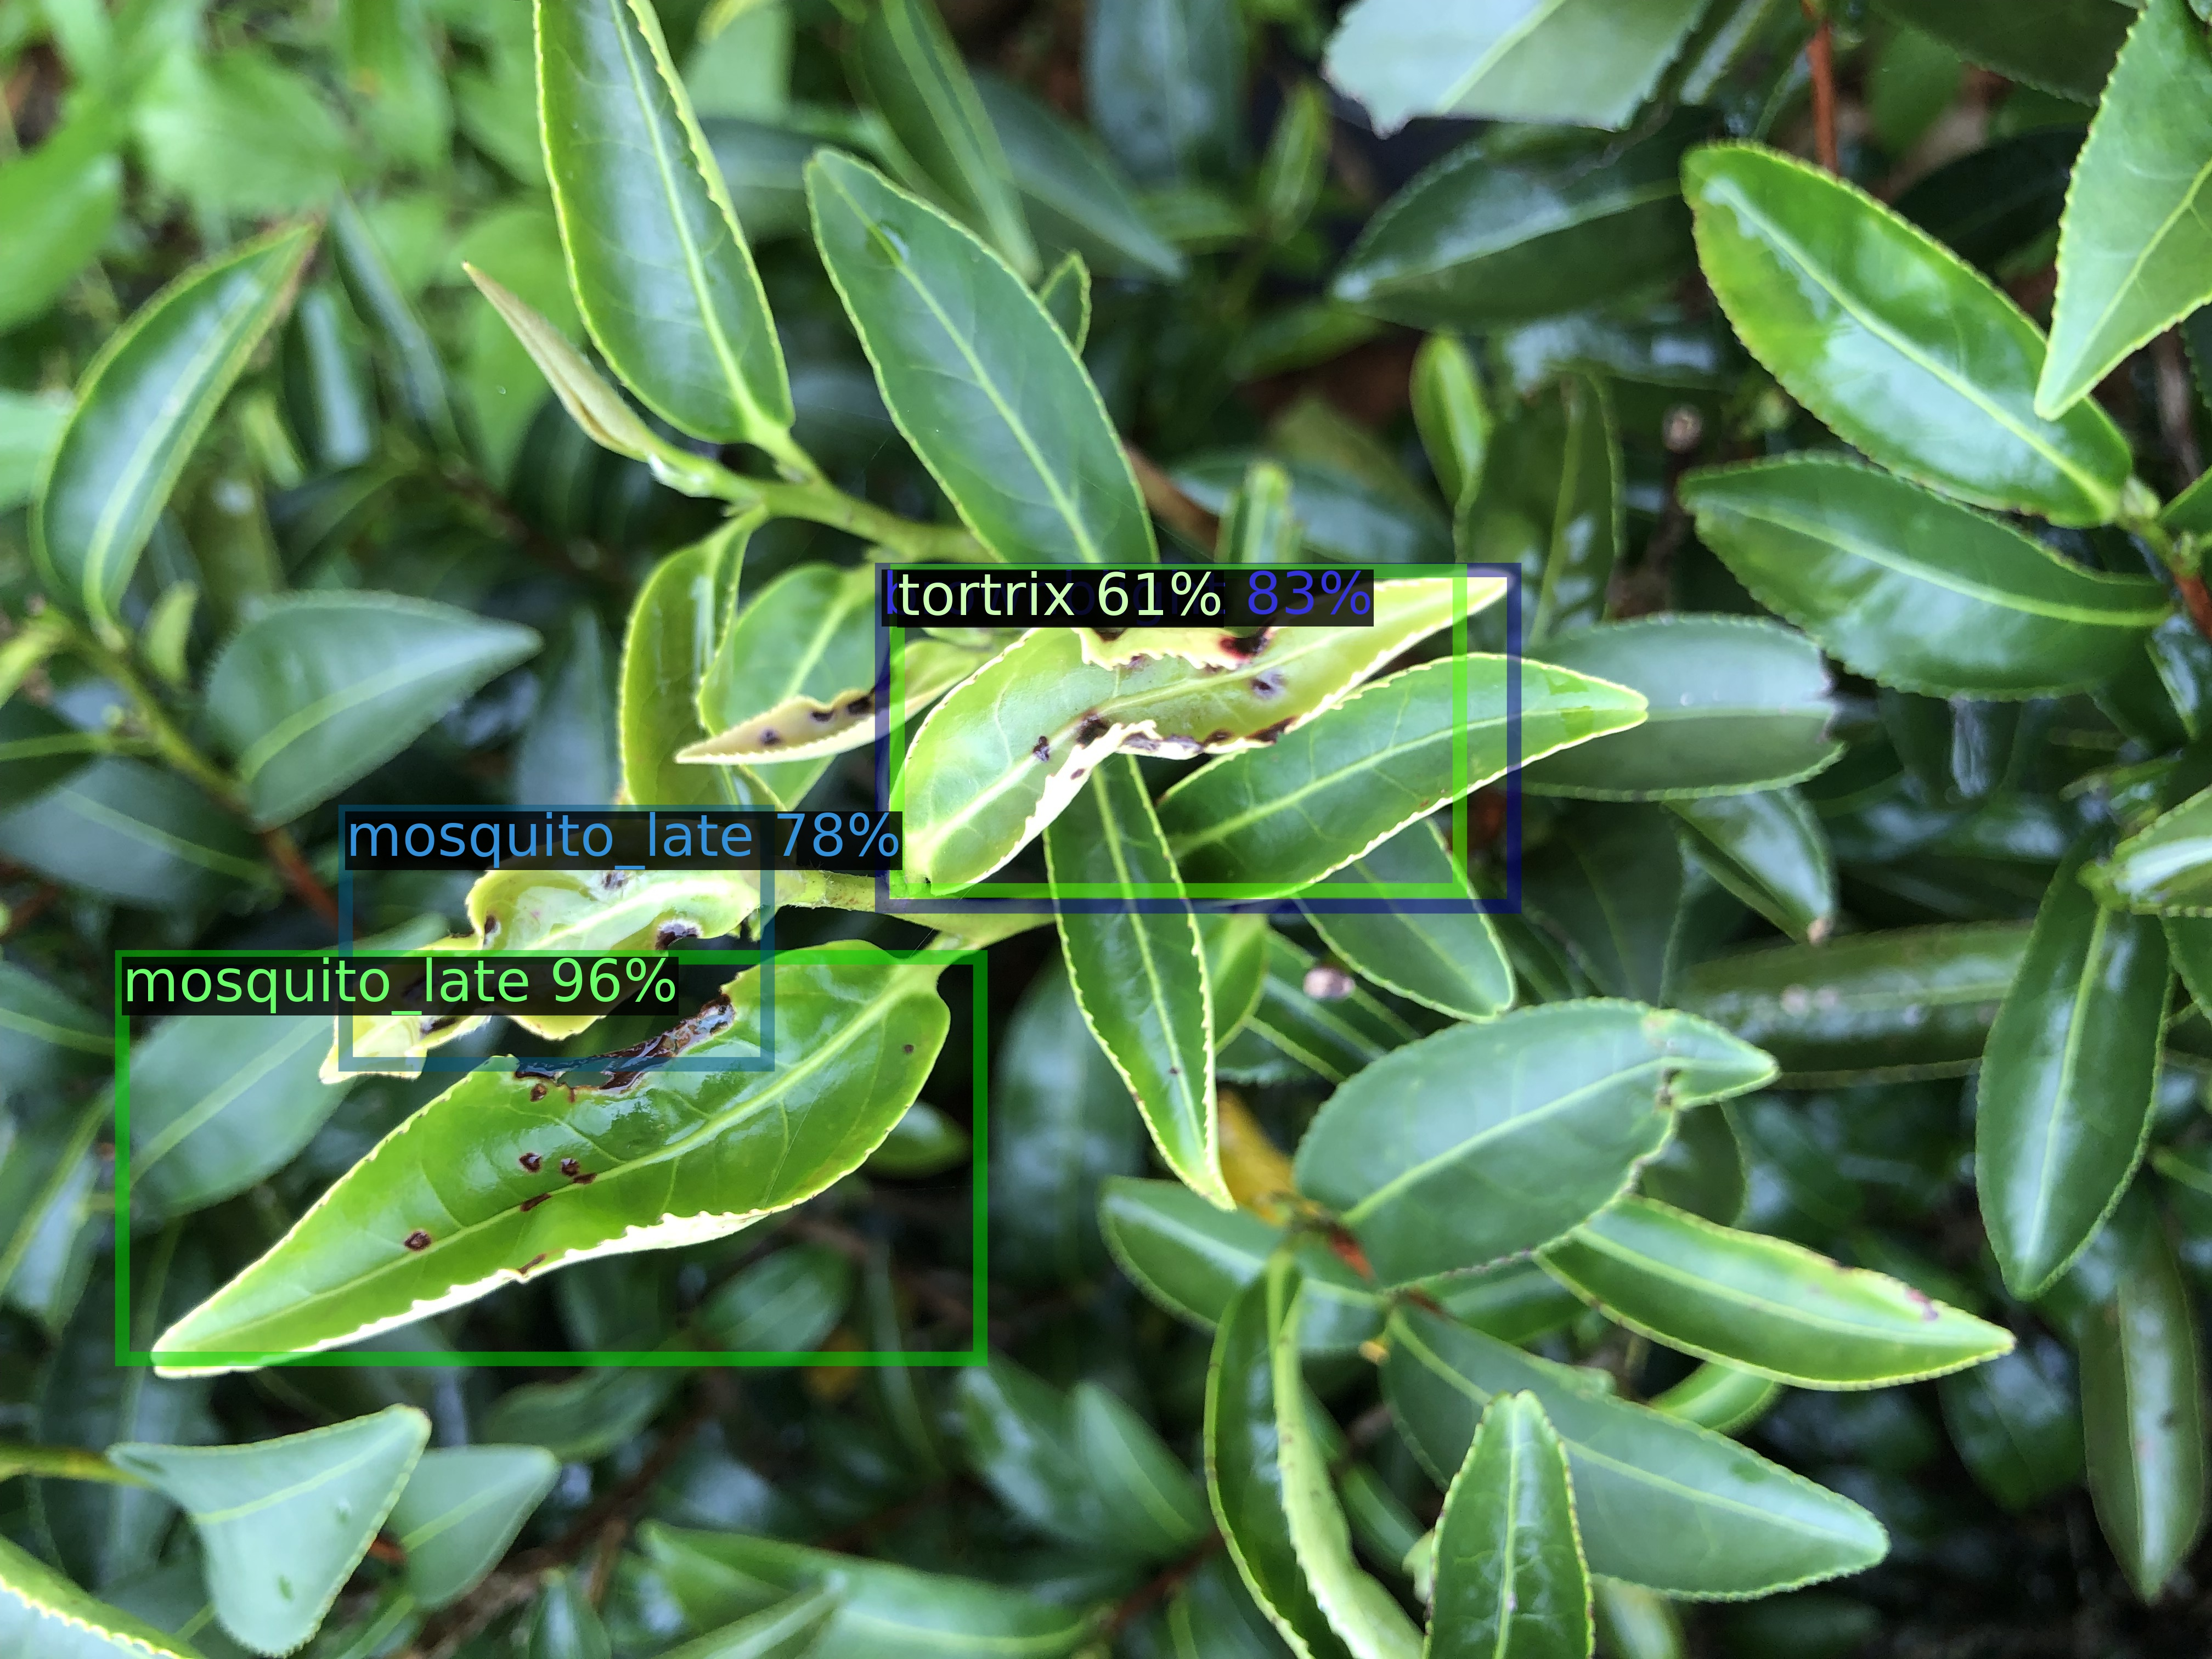brownblight: (881, 570, 1514, 906)
mosquito_late: (122, 957, 981, 1358), (345, 812, 766, 1065)
tortrix: (897, 572, 1460, 890)
